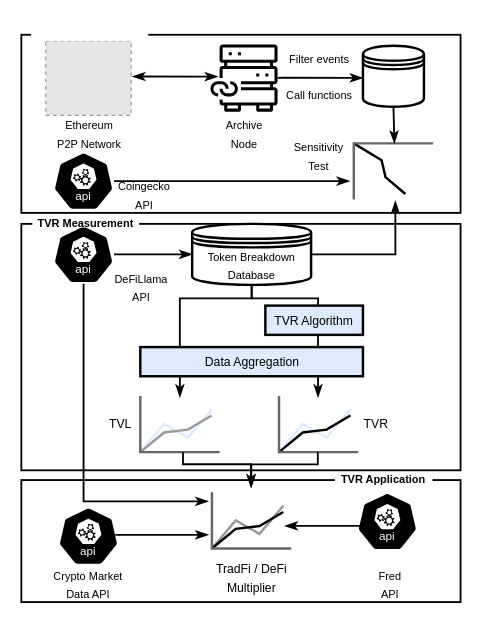
Image size: 483x625. Some labels were removed from this diagram. Grey dashed boxes stand in for pictures. The shapes that lost their labels are listed below. From the top down, each one's box as (x1, y1, x2, y2) in pixels, then its label:
(30, 20, 148, 40): Downturn Simulation
(361, 44, 425, 107): PLF User Database
